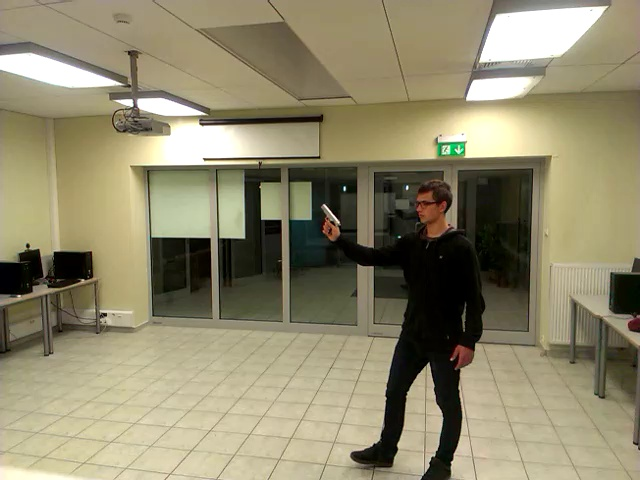gun: (312, 192, 351, 256)
